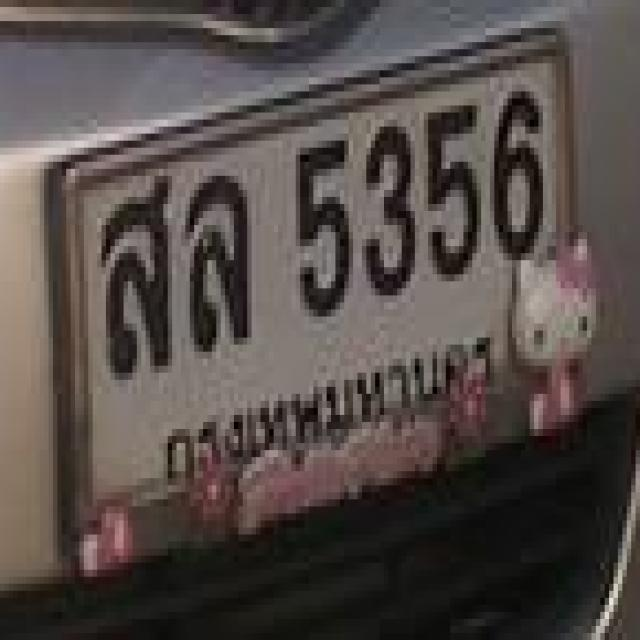license_plate: (15, 14, 608, 640)
